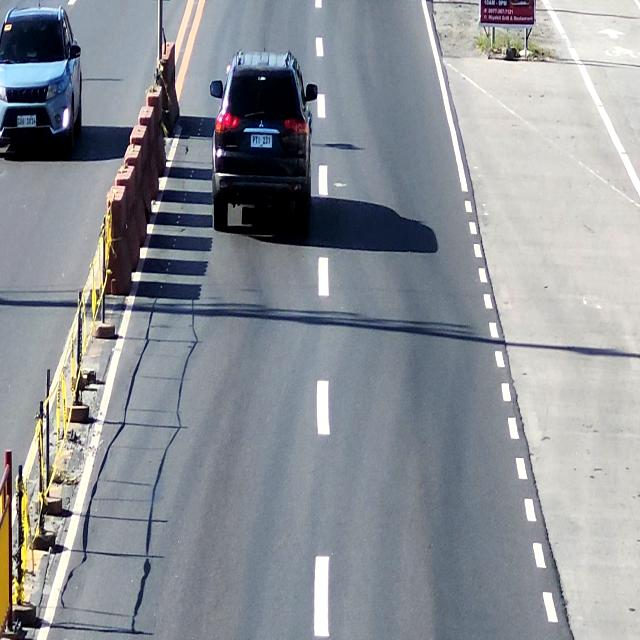Car: (211, 52, 316, 240)
License-Plate: (248, 129, 276, 150), (14, 111, 38, 128)
